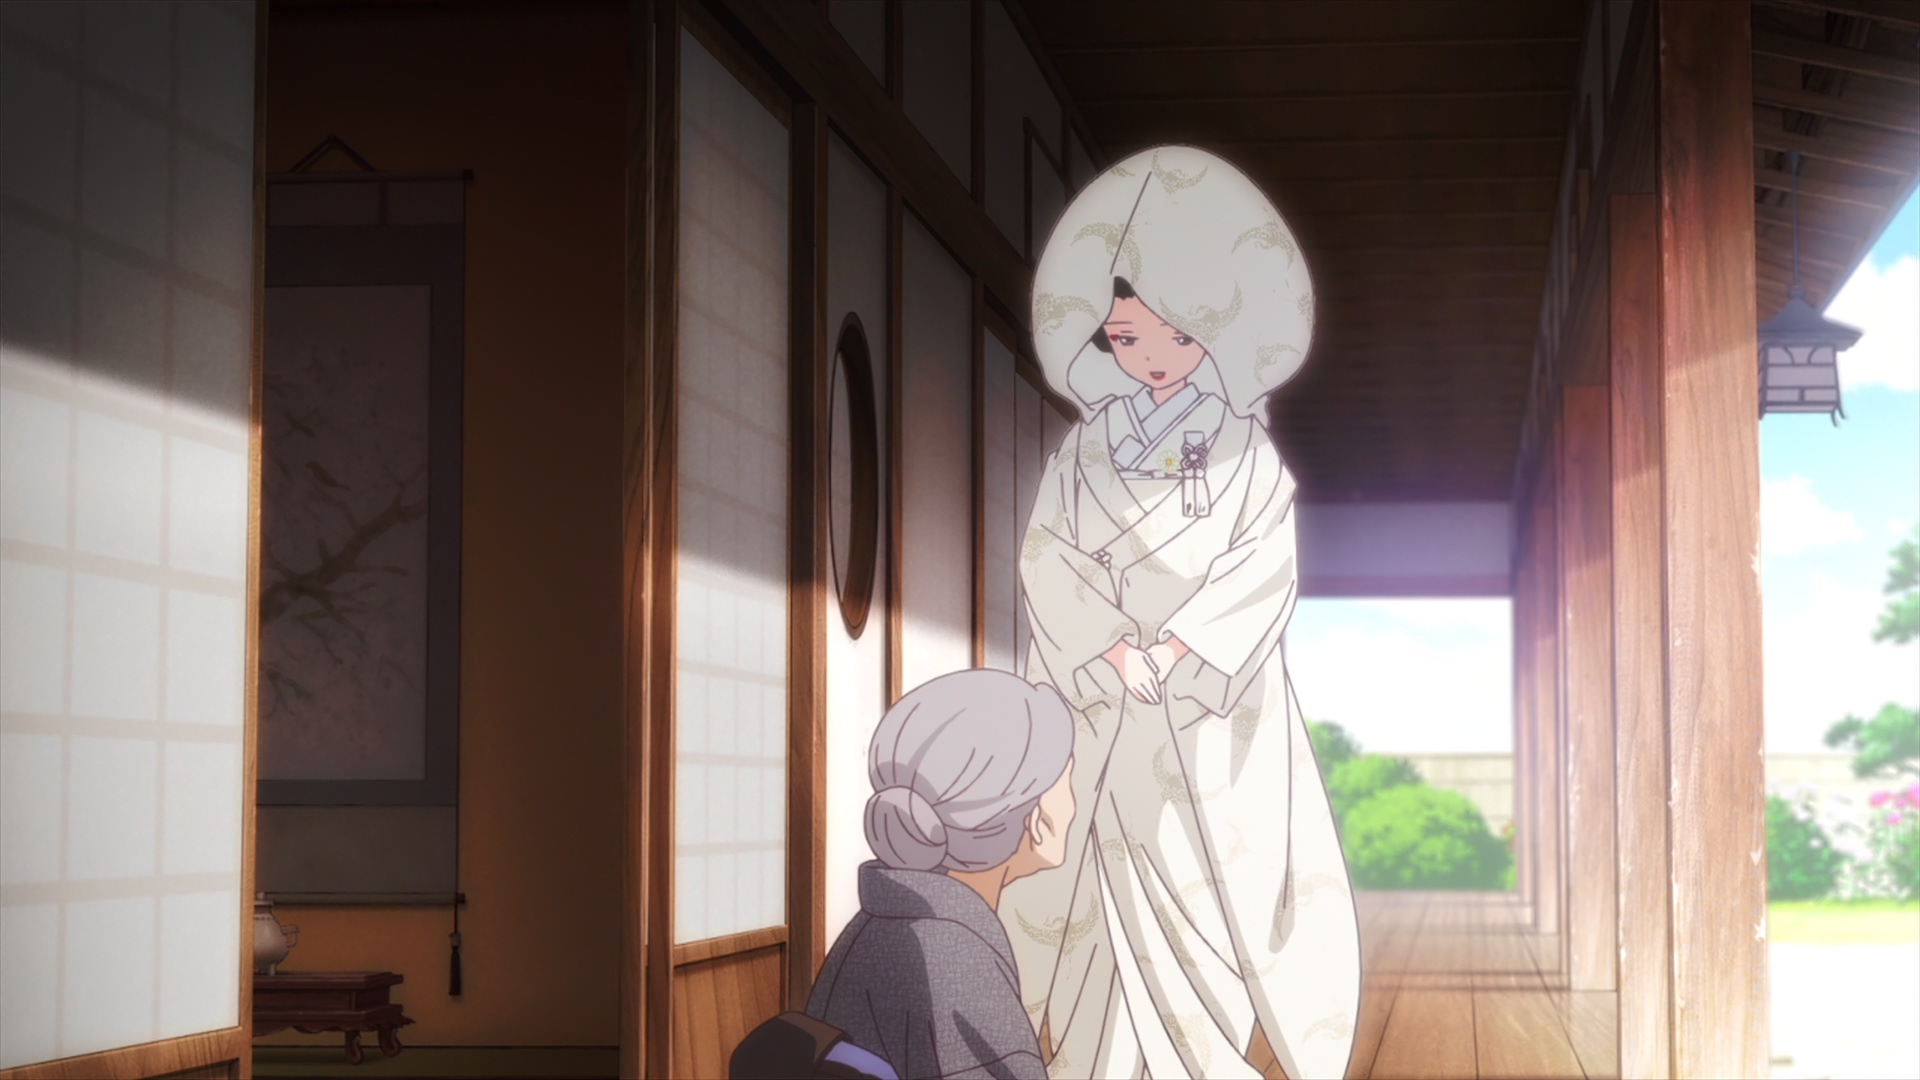其他: (1000, 146, 1360, 1080), (729, 669, 1076, 1080)
